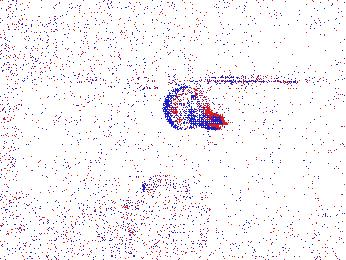flame jellyfish: (164, 86, 229, 131), (48, 184, 93, 232), (141, 174, 173, 198)
